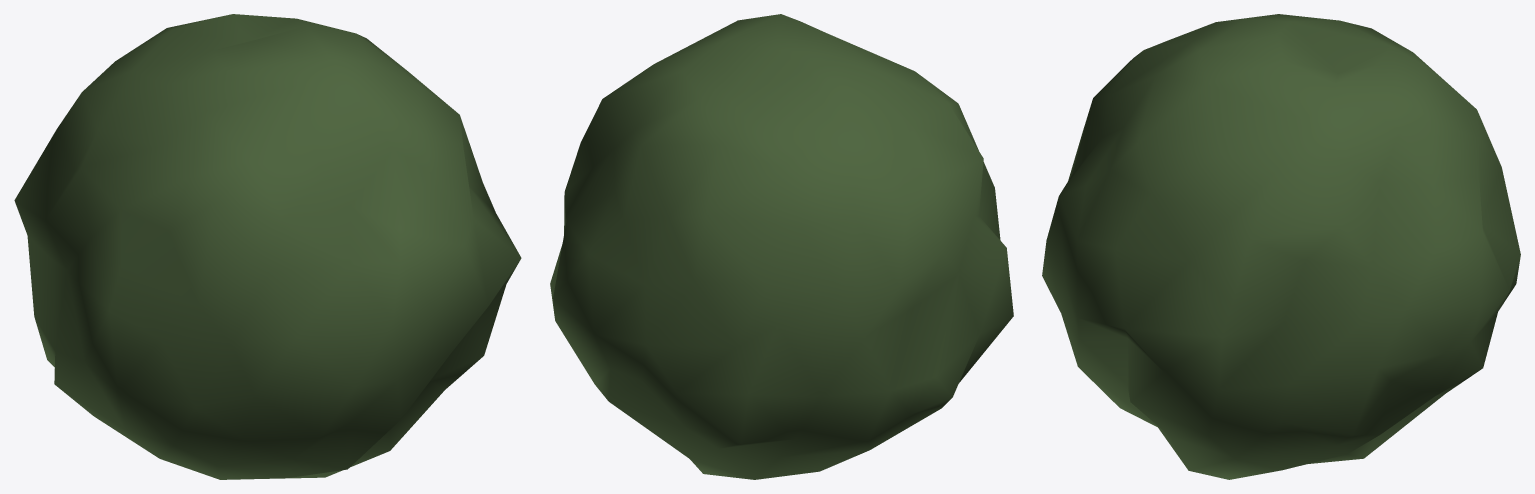
Rendered from p_mesh_trashbot_sprayprojectile_drop.fbx.
3 renders of one model, left to right at view 1: azimuth 30°, elevation 25°; view 2: azimuth 150°, elevation 25°; view 3: azimuth 270°, elevation 25°, orthographic. The views are drawn at different scales.
Visible parts, largest first — view 1: p_mesh_trashbot_sprayprojectile_drop; view 2: p_mesh_trashbot_sprayprojectile_drop; view 3: p_mesh_trashbot_sprayprojectile_drop.
Part boxes in pixels (box(x1,y1,x2,y2)): p_mesh_trashbot_sprayprojectile_drop: box(14, 14, 521, 479); p_mesh_trashbot_sprayprojectile_drop: box(550, 14, 1013, 479); p_mesh_trashbot_sprayprojectile_drop: box(1042, 14, 1520, 479).
Size of the model in its own units: 2 by 2.04 by 2.08.
